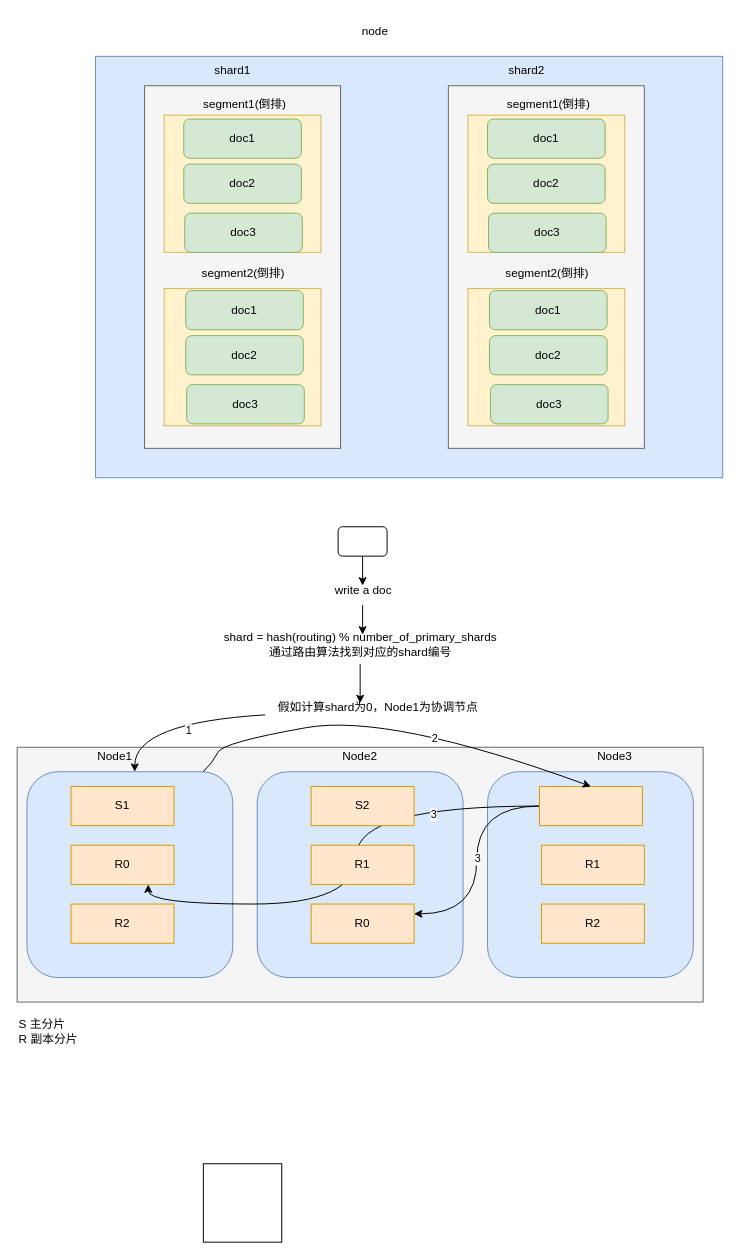
Some shapes in this 740 by 1259 pixel diagram are drawn without their labels. Here are the shapes that lost their labels. From the top down, the box of each, then its label:
(337, 526, 387, 556): client
(539, 785, 642, 826): S0
